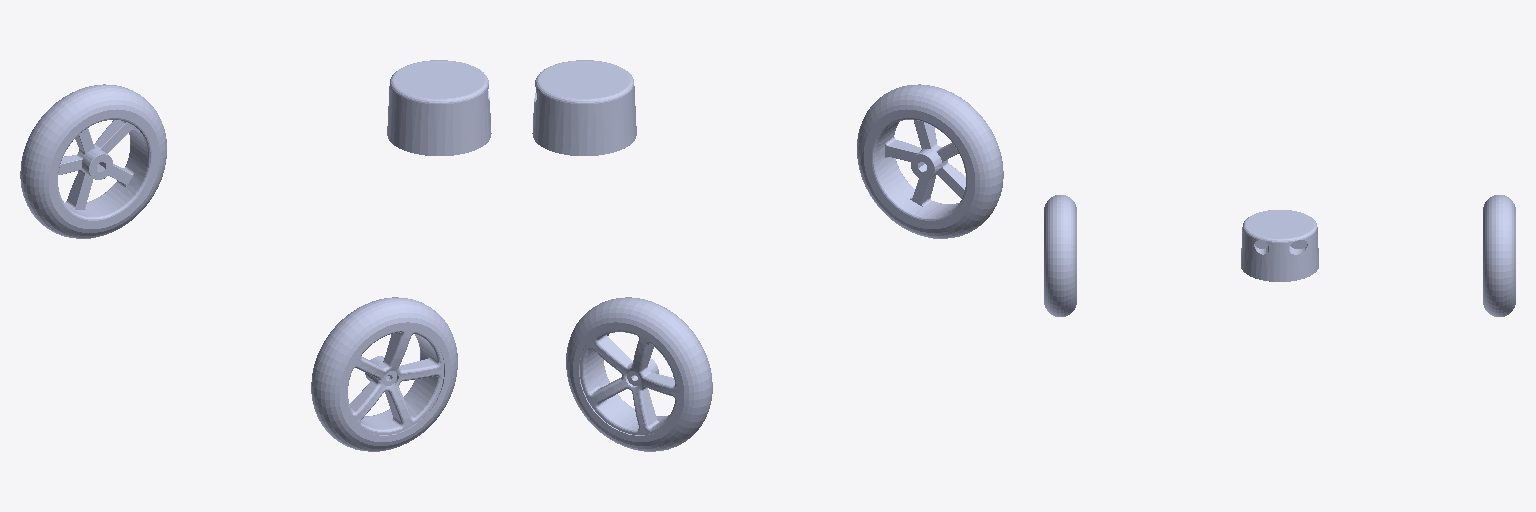
URDF robot description (eric_a):
<?xml version="1.0" encoding="utf-8"?>
<!-- This URDF was automatically created by SolidWorks to URDF Exporter! Originally created by Stephen Brawner ([email redacted]) 
     Commit Version: 1.6.0-1-g15f4949  Build Version: 1.6.7594.29634
     For more information, please see http://wiki.ros.org/sw_urdf_exporter -->
<robot name="eric_a">

  <link name="base_footprint"/>


  <joint name="base_joint" type="fixed">
    <parent link="base_footprint"/>
    <child link="base_link" />
    <origin xyz="0 0.0 0.0575" rpy="0 0 0.0"/>
  </joint>

  <link 
    name="base_link">
    <inertial>
      <origin
        xyz="-0.08918 0.00041086 0.16907"
        rpy="0 0 0" />
      <mass
        value="15.765" />
      <inertia
        ixx="0.1406"
        ixy="8.3462E-05"
        ixz="-1.7887E-05"
        iyy="0.16077"
        iyz="-3.918E-07"
        izz="0.14619" />
    </inertial>
    <visual>
      <origin
        xyz="0 0 0"
        rpy="0 0 0" />
      <geometry>
        <mesh
          filename="package://eric_a_description/meshes/base_link.STL" />
      </geometry>
      <material
        name="">
        <color
          rgba="0.79216 0.81961 0.93333 1" />
      </material>
    </visual>
    <collision>
      <origin
        xyz="0 0 0"
        rpy="0 0 0" />
      <geometry>
        <mesh
          filename="package://eric_a_description/meshes/base_link.STL" />
      </geometry>
    </collision>
  </link> <!--base_link-->
  <link
    name="wheel_left_link">
    <inertial>
      <origin
        xyz="3.19382949254265E-09 0.000399087327025344 6.66536636301229E-09"
        rpy="0 0 0" />
      <mass
        value="0.168927897451557" />
      <inertia
        ixx="0.000180292959455697"
        ixy="-6.26327828918663E-12"
        ixz="-1.82522160131774E-10"
        iyy="0.000340883721412519"
        iyz="-1.2044020877843E-11"
        izz="0.000180293557512405" />
    </inertial>
    <visual>
      <origin
        xyz="0 0 0"
        rpy="0 0 0" />
      <geometry>
        <mesh
          filename="package://eric_a_description/meshes/wheel_left_link.STL" />
      </geometry>
      <material
        name="">
        <color
          rgba="0.792156862745098 0.819607843137255 0.933333333333333 1" />
      </material>
    </visual>
    <collision>
      <origin
        xyz="0 0 0"
        rpy="0 0 0" />
      <geometry>
        <mesh
          filename="package://eric_a_description/meshes/wheel_left_link.STL" />
      </geometry>
    </collision>
  </link> <!--wheel_left_joint-->
  <joint
    name="wheel_left_joint"
    type="fixed">
    <origin
      xyz="0 0.2052 0"
      rpy="0 0 0" />
    <parent
      link="base_link" />
    <child
      link="wheel_left_link" />
    <axis
      xyz="0 0 0" />
  </joint>
  <link
    name="wheel_right_link">
    <inertial>
      <origin
        xyz="-3.19394335979162E-09 -0.000399087326916181 6.66631318202437E-09"
        rpy="0 0 0" />
      <mass
        value="0.168927897449527" />
      <inertia
        ixx="0.000180292959453293"
        ixy="-6.26350367029057E-12"
        ixz="1.82520747759246E-10"
        iyy="0.000340883721410212"
        iyz="1.20453843524227E-11"
        izz="0.000180293557512052" />
    </inertial>
    <visual>
      <origin
        xyz="0 0 0"
        rpy="0 0 0" />
      <geometry>
        <mesh
          filename="package://eric_a_description/meshes/wheel_right_link.STL" />
      </geometry>
      <material
        name="">
        <color
          rgba="0.792156862745098 0.819607843137255 0.933333333333333 1" />
      </material>
    </visual>
    <collision>
      <origin
        xyz="0 0 0"
        rpy="0 0 0" />
      <geometry>
        <mesh
          filename="package://eric_a_description/meshes/wheel_right_link.STL" />
      </geometry>
    </collision>
  </link> <!--wheel_right_joint-->
  <joint
    name="wheel_right_joint"
    type="fixed">
    <origin
      xyz="0 -0.2052 0"
      rpy="0 0 0" />
    <parent
      link="base_link" />
    <child
      link="wheel_right_link" />
    <axis
      xyz="0 0 0" />
  </joint>
  <link
    name="base_scan">
    <inertial>
      <origin
        xyz="-0.00057115802102764 -3.71346293298179E-05 -0.0125441512533557"
        rpy="0 0 0" />
      <mass
        value="0.168014657323867" />
      <inertia
        ixx="7.93896958957229E-05"
        ixy="1.59101639507677E-07"
        ixz="1.19708808248234E-06"
        iyy="7.78669927066167E-05"
        iyz="7.78992587311874E-08"
        izz="0.000107042359804628" />
    </inertial>
    <visual>
      <origin
        xyz="0 0 0"
        rpy="0 0 0" />
      <geometry>
        <mesh
          filename="package://eric_a_description/meshes/base_scan.STL" />
      </geometry>
      <material
        name="">
        <color
          rgba="0.792156862745098 0.819607843137255 0.933333333333333 1" />
      </material>
    </visual>
    <collision>
      <origin
        xyz="0 0 0"
        rpy="0 0 0" />
      <geometry>
        <mesh
          filename="package://eric_a_description/meshes/base_scan.STL" />
      </geometry>
    </collision>
  </link> <!--base_scan-->
  <joint
    name="scan_joint"
    type="fixed">
    <origin
      xyz="0.163 0 0.0993"
      rpy="0 0 0" />
    <parent
      link="base_link" />
    <child
      link="base_scan" />
    <axis
      xyz="0 0 0" />
  </joint>
</robot>

--- Render facts (derived) ---
3 views of the same robot in one strip: view 1: azimuth 30°, elevation 25°; view 2: azimuth 150°, elevation 25°; view 3: azimuth 270°, elevation 25° (orthographic).
Robot: eric_a — 5 links, 4 joints (4 fixed); root link base_footprint; default pose: every joint at zero.
Links seen in each view (by area): view 1: wheel_right_link, wheel_left_link, base_scan; view 2: wheel_left_link, wheel_right_link, base_scan; view 3: base_scan, wheel_left_link, wheel_right_link.
Link boxes in pixels (left/top/right/bottom): wheel_right_link: left=311, top=297, right=457, bottom=451; wheel_left_link: left=20, top=84, right=166, bottom=238; base_scan: left=387, top=60, right=491, bottom=155; wheel_left_link: left=566, top=297, right=712, bottom=451; wheel_right_link: left=857, top=84, right=1003, bottom=238; base_scan: left=532, top=60, right=636, bottom=155; base_scan: left=1241, top=210, right=1318, bottom=281; wheel_left_link: left=1483, top=195, right=1515, bottom=316; wheel_right_link: left=1044, top=195, right=1076, bottom=316.
Bounding box of the posed robot: 0.2573 × 0.4404 × 0.1662 m (x, y, z).
Meshes: 4 distinct files referenced, 3 mesh visuals loaded (3 binary STL); not drawn: 1 (reference not matched to a file when rendering).
